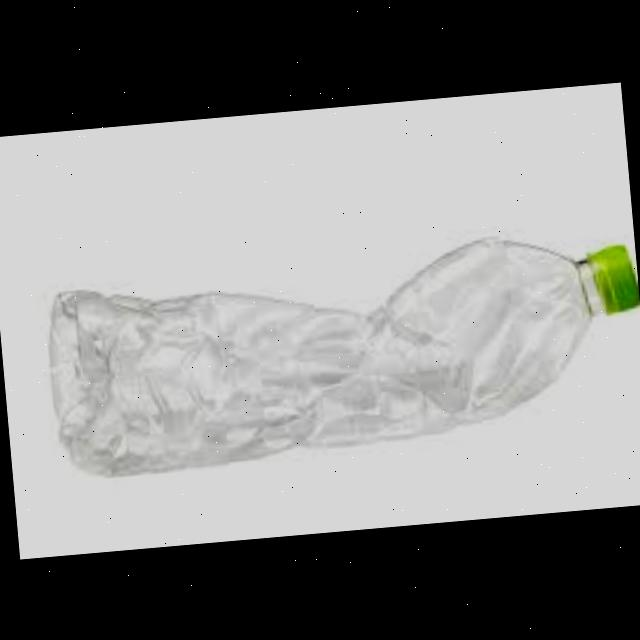trash: (38, 213, 640, 488)
